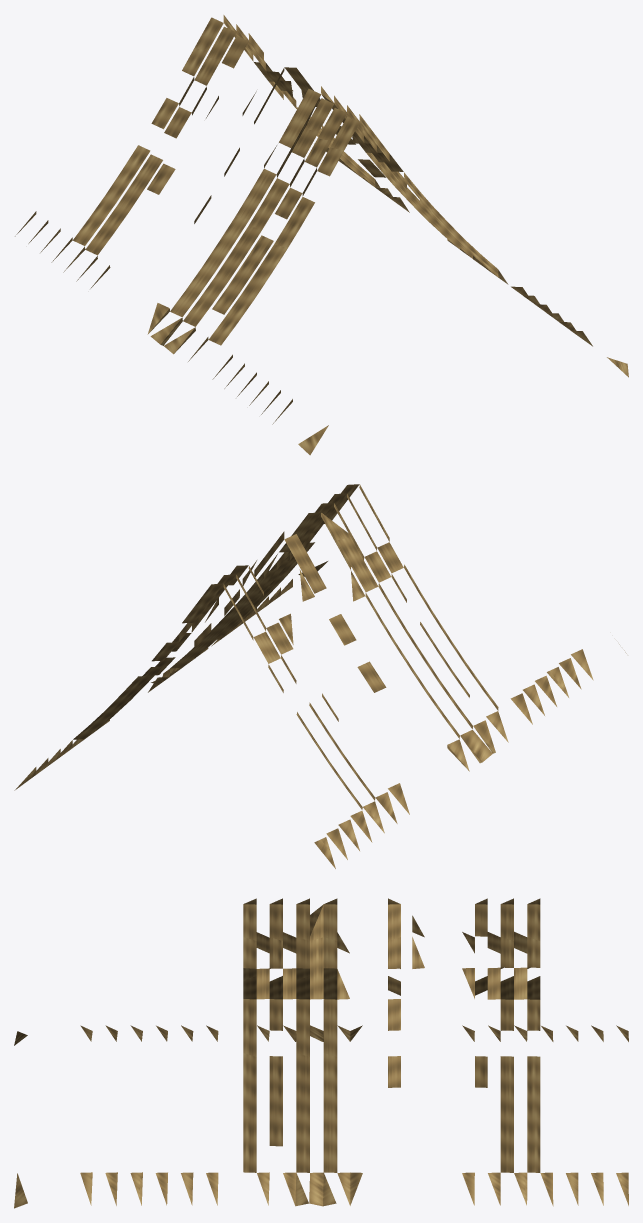
The model's file is Roof_Thatch_6x12_LOD2.gltf.
3 views of the same model, one above another, from view 1: azimuth 30°, elevation 25°; view 2: azimuth 150°, elevation 25°; view 3: azimuth 270°, elevation 25° (orthographic). The views are drawn at different scales.
Parts seen in each view (by area): view 1: Roof_Thatch_6x12_LOD2; view 2: Roof_Thatch_6x12_LOD2; view 3: Roof_Thatch_6x12_LOD2.
Boxes of the visible parts, left/top/right/bottom form: Roof_Thatch_6x12_LOD2: left=15, top=15, right=628, bottom=455; Roof_Thatch_6x12_LOD2: left=14, top=484, right=626, bottom=868; Roof_Thatch_6x12_LOD2: left=14, top=898, right=628, bottom=1208.
Size of the model in its own units: 8.25 by 5.17 by 12.77.
Materials: 1 (1 with a texture image).
